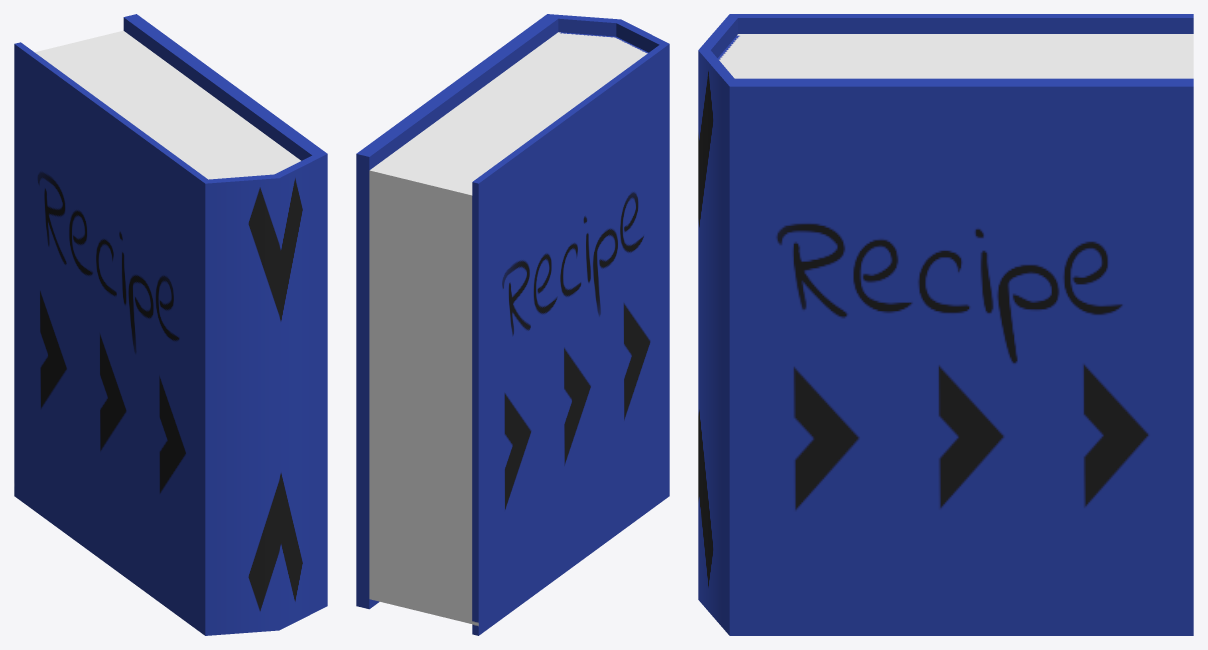
File: Recipe_Book.fbx
3 views of the same model, side by side, from view 1: azimuth 30°, elevation 25°; view 2: azimuth 150°, elevation 25°; view 3: azimuth 270°, elevation 25° (orthographic). The views are drawn at different scales.
Visible parts, largest first — view 1: pCube3; view 2: pCube3; view 3: pCube3.
Boxes of the visible parts, left/top/right/bottom form: pCube3: left=14, top=14, right=327, bottom=635; pCube3: left=356, top=14, right=669, bottom=635; pCube3: left=698, top=14, right=1193, bottom=635.
Size of the model in its own units: 3.06 by 10.81 by 8.84.
1 material, 1 textured.
